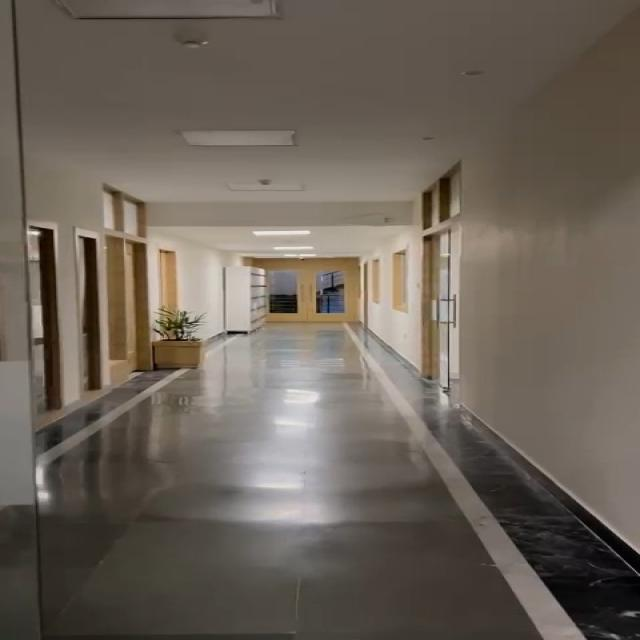door: (398, 190, 479, 377), (80, 204, 146, 379), (235, 251, 394, 315)
floor: (219, 331, 443, 640), (70, 408, 225, 634)
furniture: (158, 319, 191, 363)
wall: (475, 114, 640, 426), (168, 243, 228, 319)
